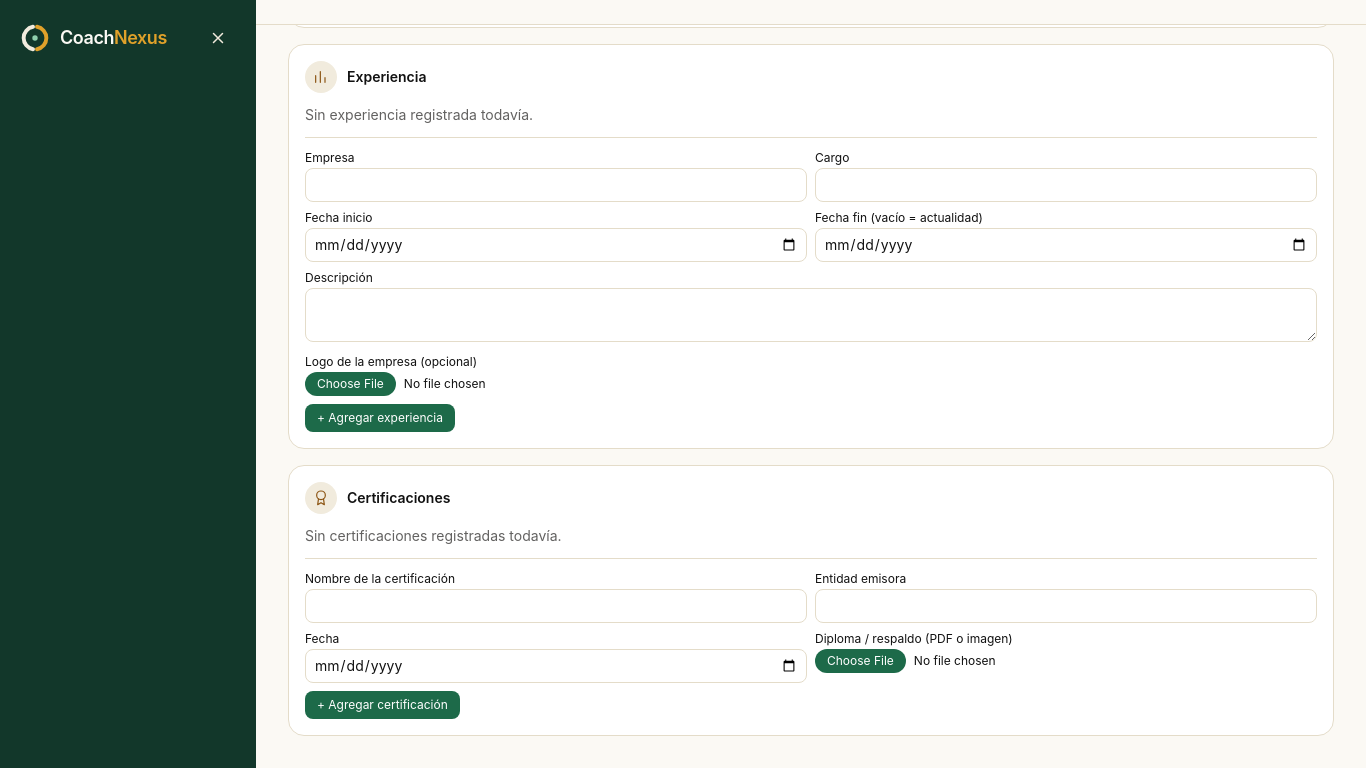
Test: PerfilView › adds a certificación with the entered fields
(page scrolled)
Type "ICF ACC" into the field labelled "Nombre de la certificación" at (556, 606), box [305,589,807,623]
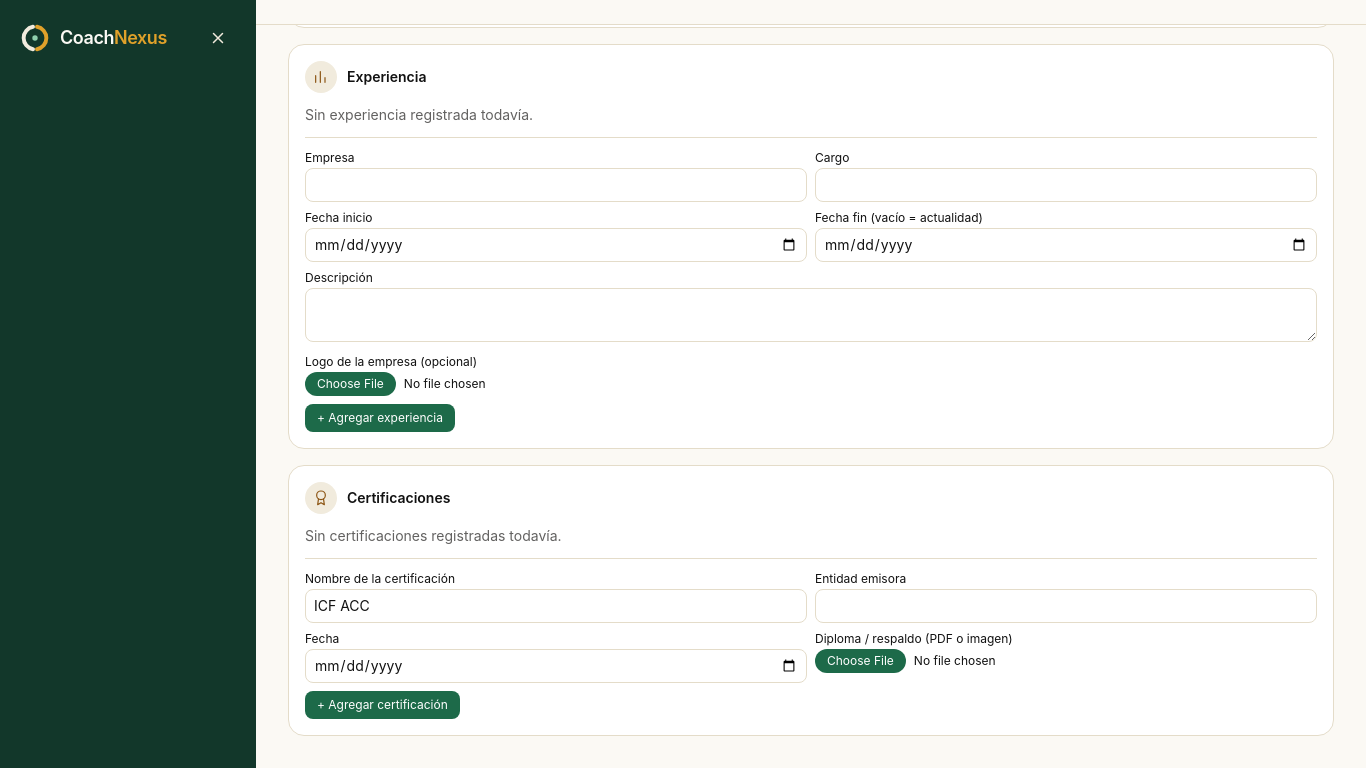
Submit the form that starts with "Nombre de la certificación", box [305,558,1317,719]
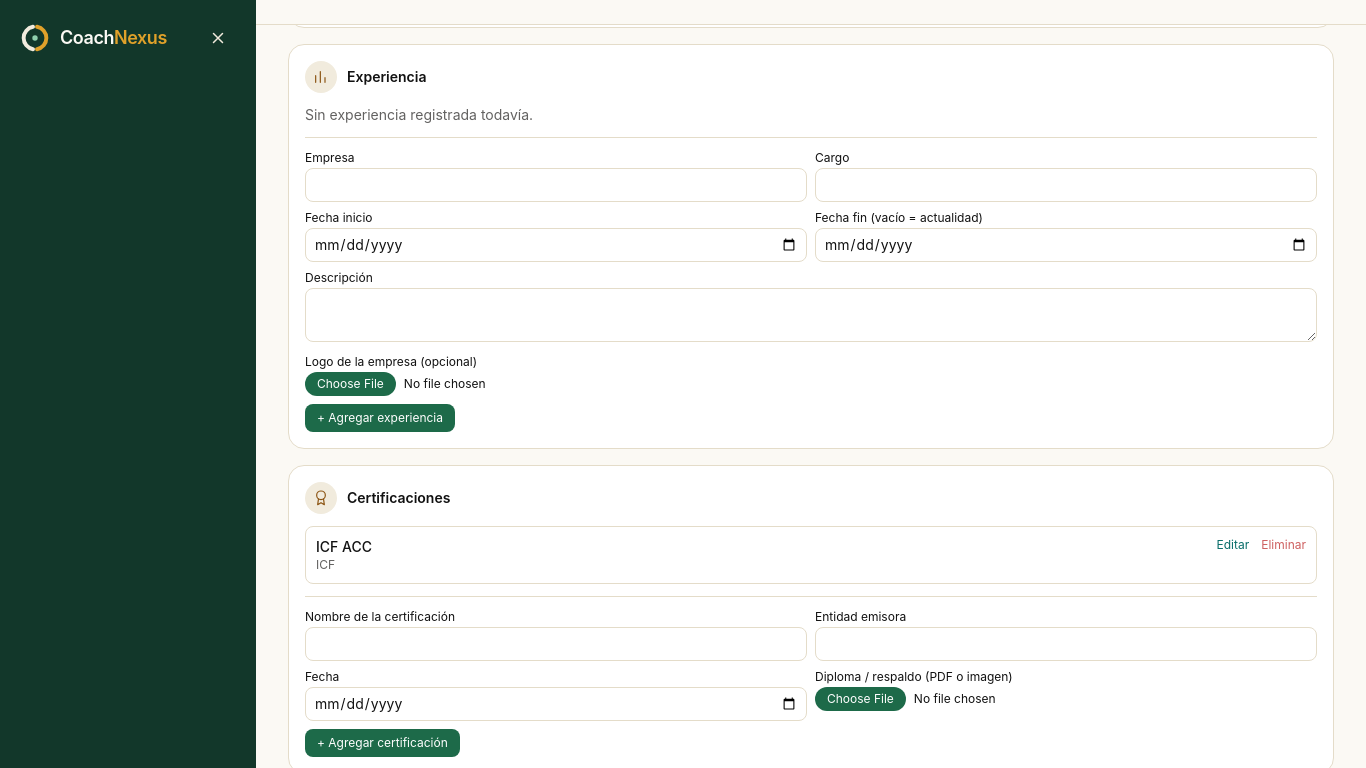
Result: the text "ICF ACC" is shown at [316,537,372,557]
